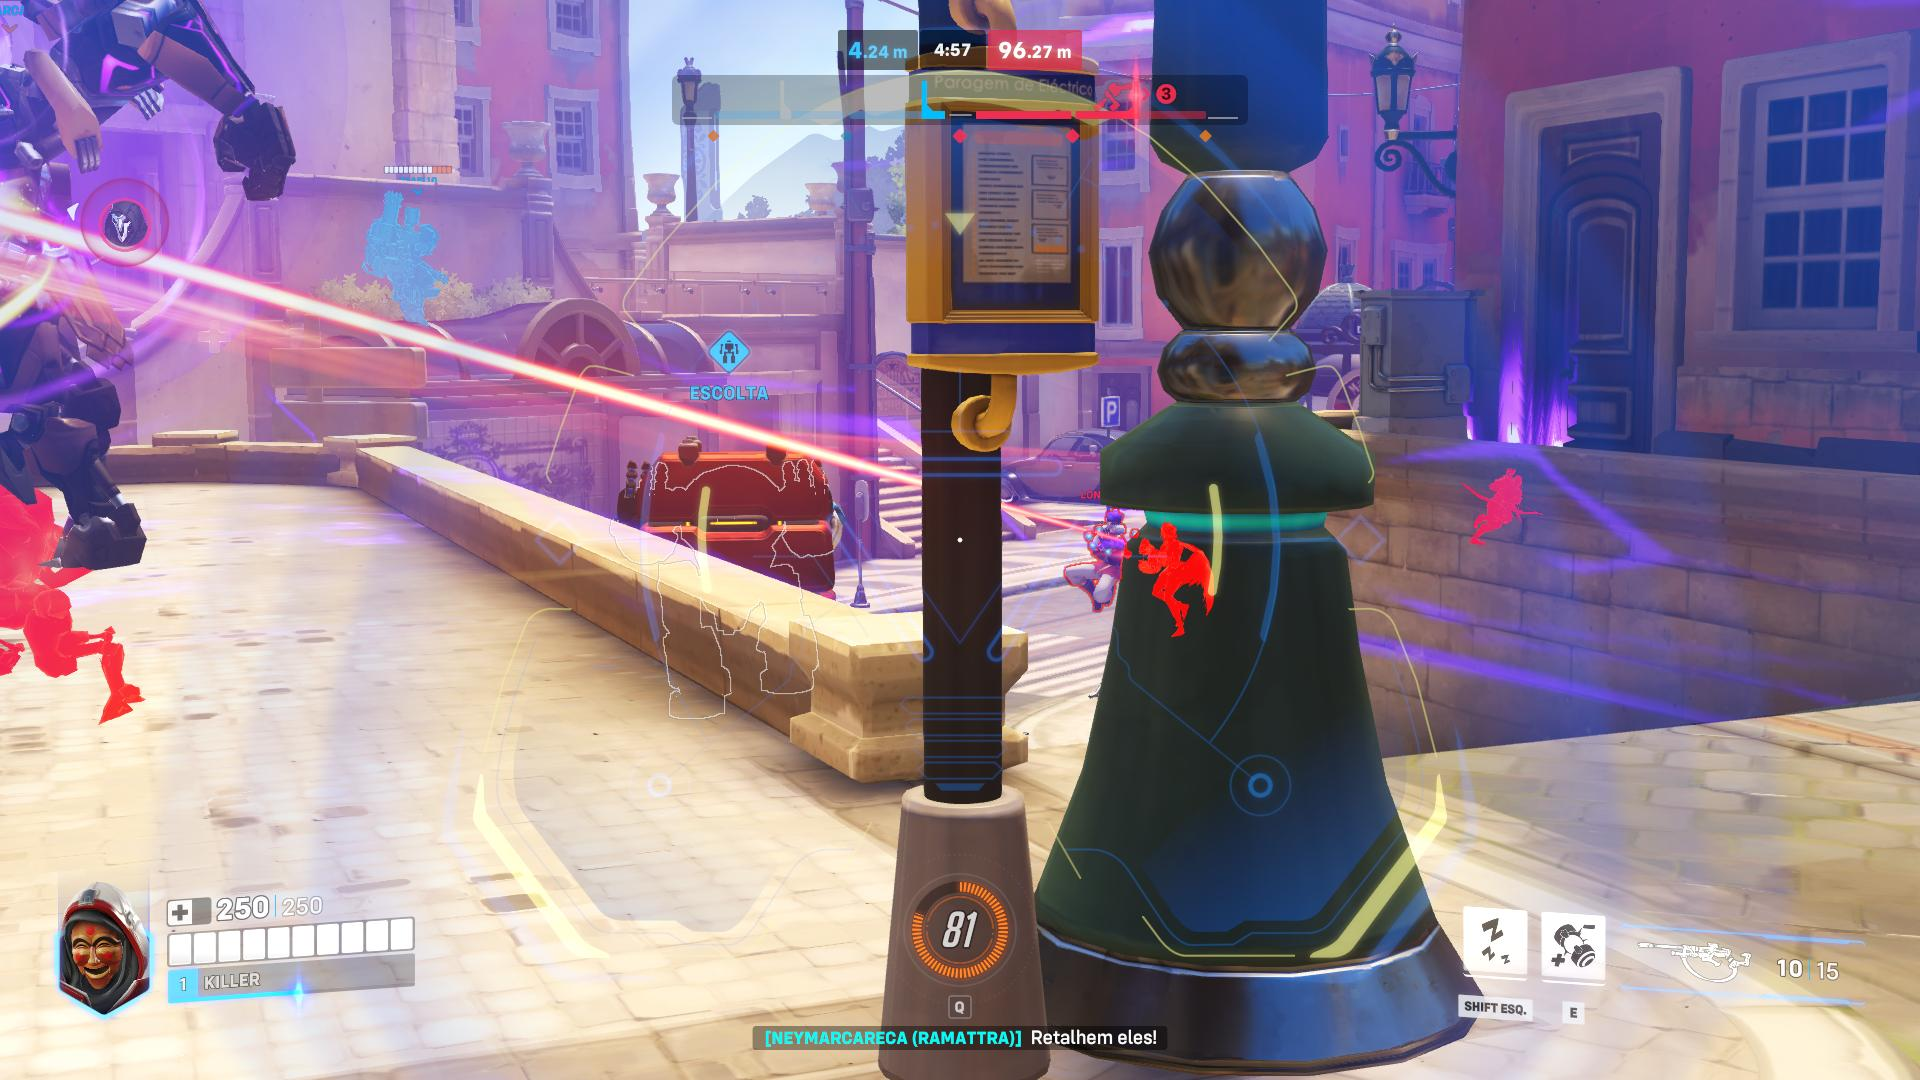enemy: (1063, 508, 1125, 613)
